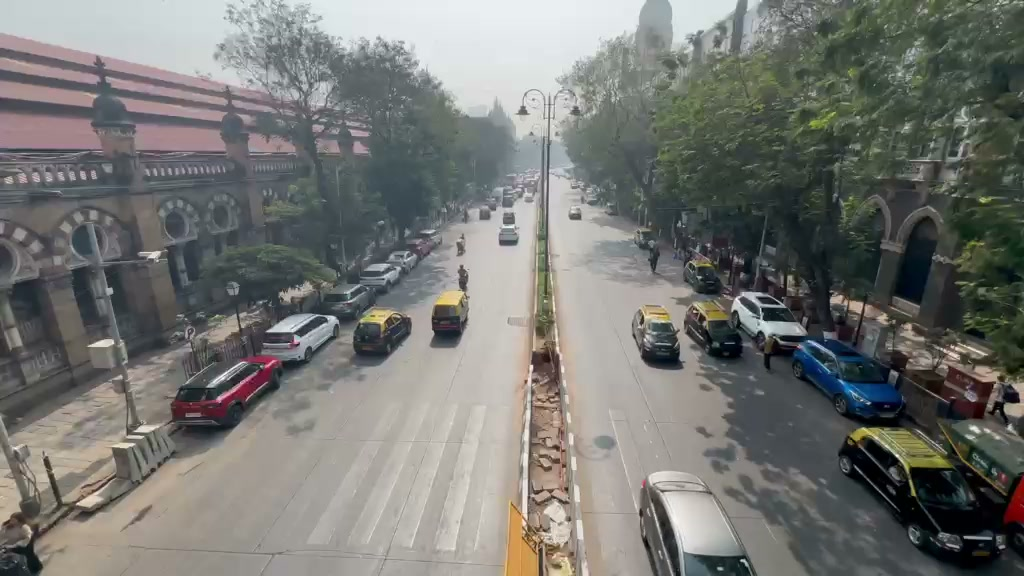bus: (638, 470, 757, 575)
car: (836, 423, 1010, 566), (637, 470, 757, 574), (937, 416, 1024, 544), (790, 335, 906, 423), (170, 353, 282, 428), (937, 415, 1024, 504), (729, 291, 809, 352), (260, 312, 340, 366), (684, 304, 743, 358), (352, 306, 413, 355), (631, 304, 681, 363), (316, 281, 378, 320), (431, 289, 470, 333), (358, 263, 402, 291), (684, 262, 722, 294), (386, 249, 419, 272), (498, 221, 520, 246)
pedestrian: (649, 241, 661, 274)
